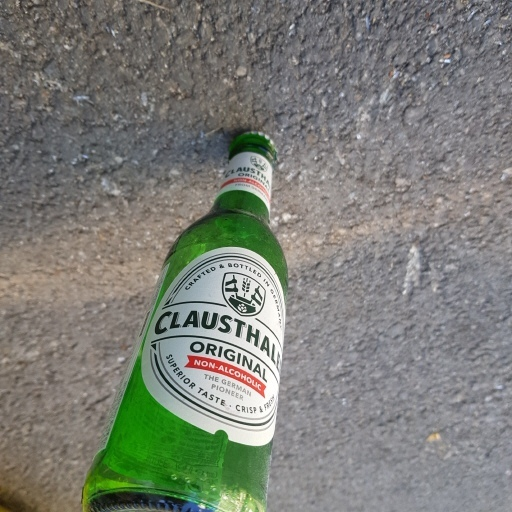Glass_1: (76, 132, 294, 512)
